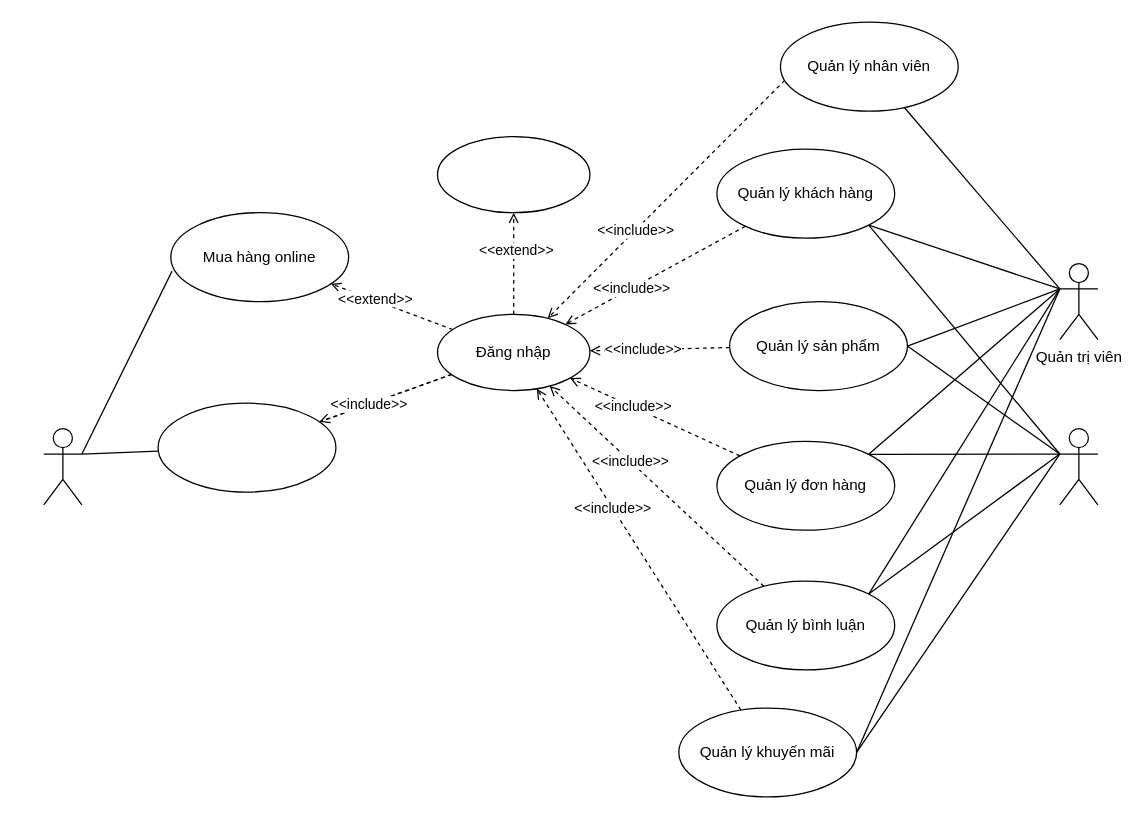
Some shapes in this 1144 by 819 pixel diagram are drawn without their labels. The shapes that lost their labels are listed below. From the top down, each one's box as (x1, y1, x2, y2) in pixels, then its label:
(436, 135, 590, 213): Đăng xuất
(43, 427, 82, 505): Khách hàng
(157, 402, 336, 492): Đăng ký
(1059, 427, 1098, 505): Nhân viên
